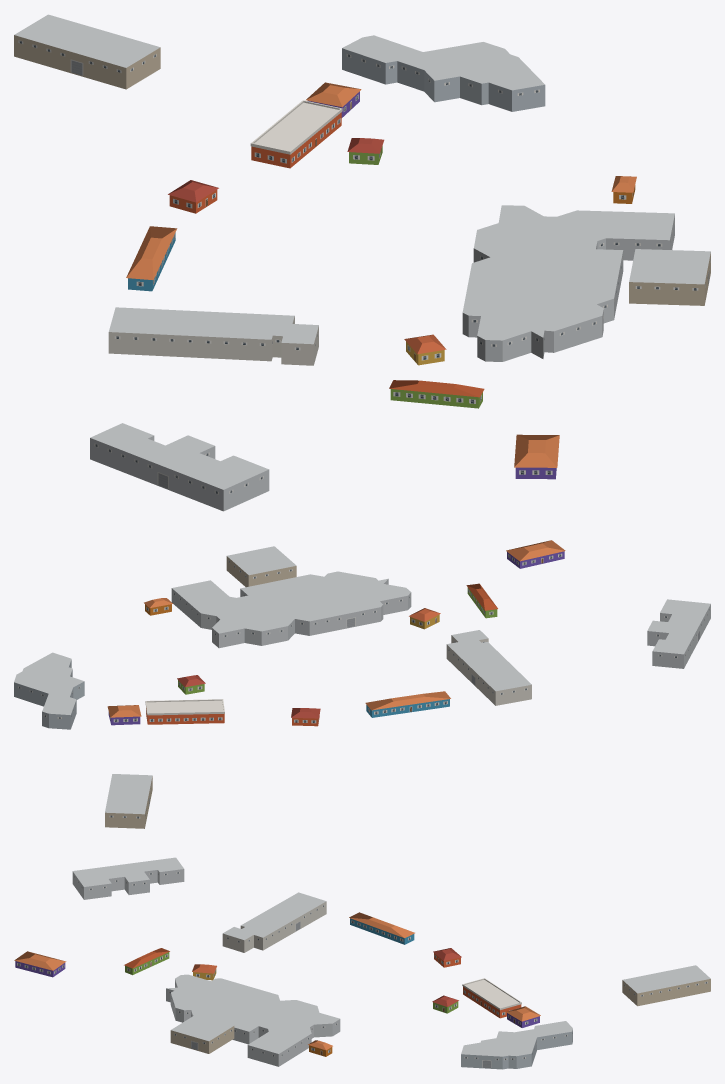
The model's file is msb_palmbeach_m23_m12.glb.
The picture shows the model from 3 angles, top to bottom: view 1: azimuth 30°, elevation 25°; view 2: azimuth 150°, elevation 25°; view 3: azimuth 270°, elevation 25°; orthographic projection. The views are drawn at different scales.
Visible parts, largest first — view 1: msb_palmbeach_m23_m12_lod0; view 2: msb_palmbeach_m23_m12_lod0; view 3: msb_palmbeach_m23_m12_lod0.
Boxes of the visible parts, x1,y1,x2,y2 form: msb_palmbeach_m23_m12_lod0: (14, 14, 710, 511); msb_palmbeach_m23_m12_lod0: (14, 540, 710, 828); msb_palmbeach_m23_m12_lod0: (14, 857, 710, 1069).
Size of what is drawn, in the model's own units: 215 by 10.44 by 310.
3 materials, 1 textured.
